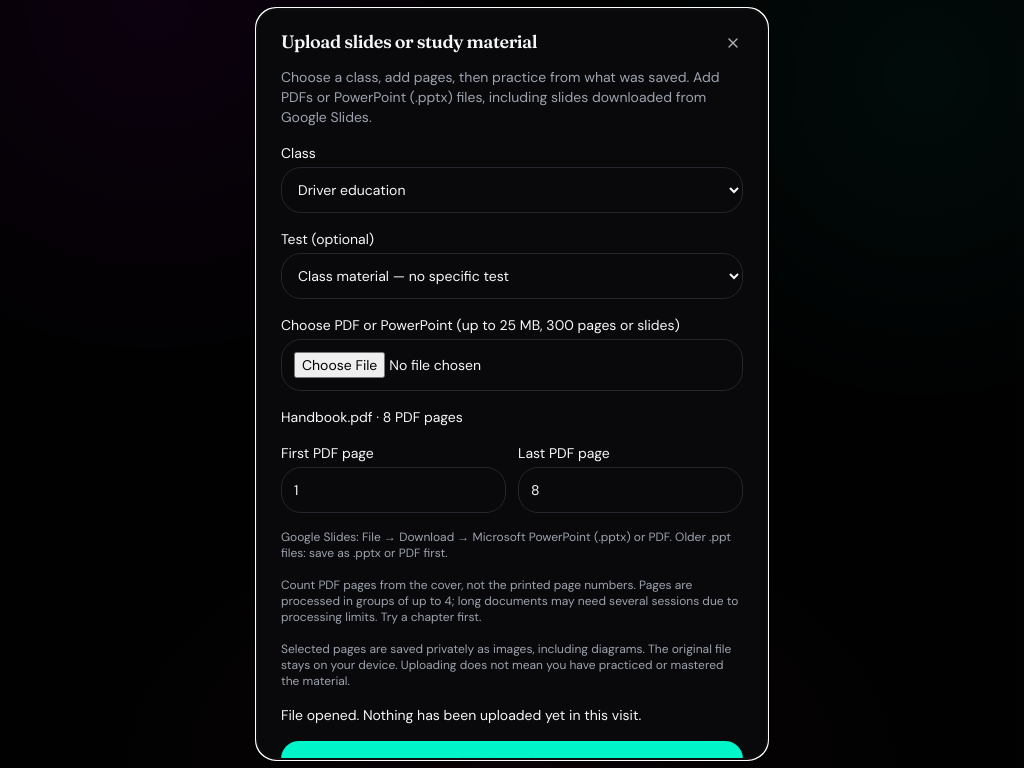
Test: PDF study import UI › locks the class/test after import starts and sends exam context to every batch
Earlier steps of the test are not shown.
Expected: the text "Handbook.pdf · 8 PDF pages" is shown, [281,408,463,426]
Select "Permit retest" in the dropdown labelled "Test (optional)" at (512, 276), box [281,253,743,299]
(page scrolled)
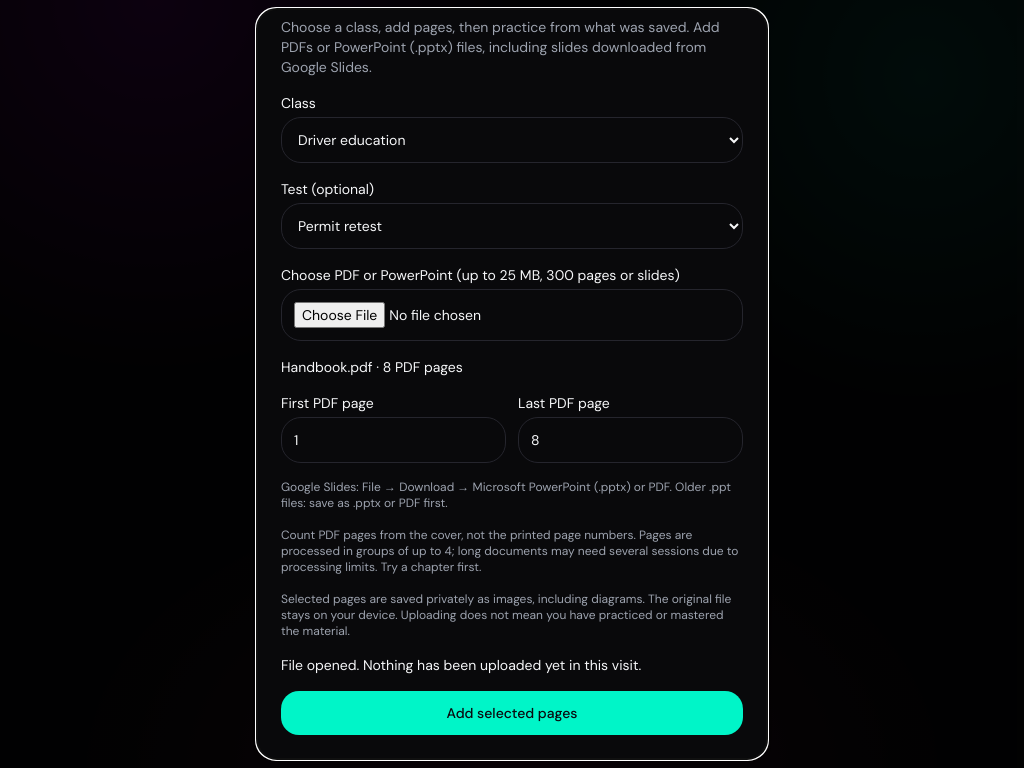
Click the button "Add selected pages" at (512, 713), box [281,691,743,735]
(page scrolled)
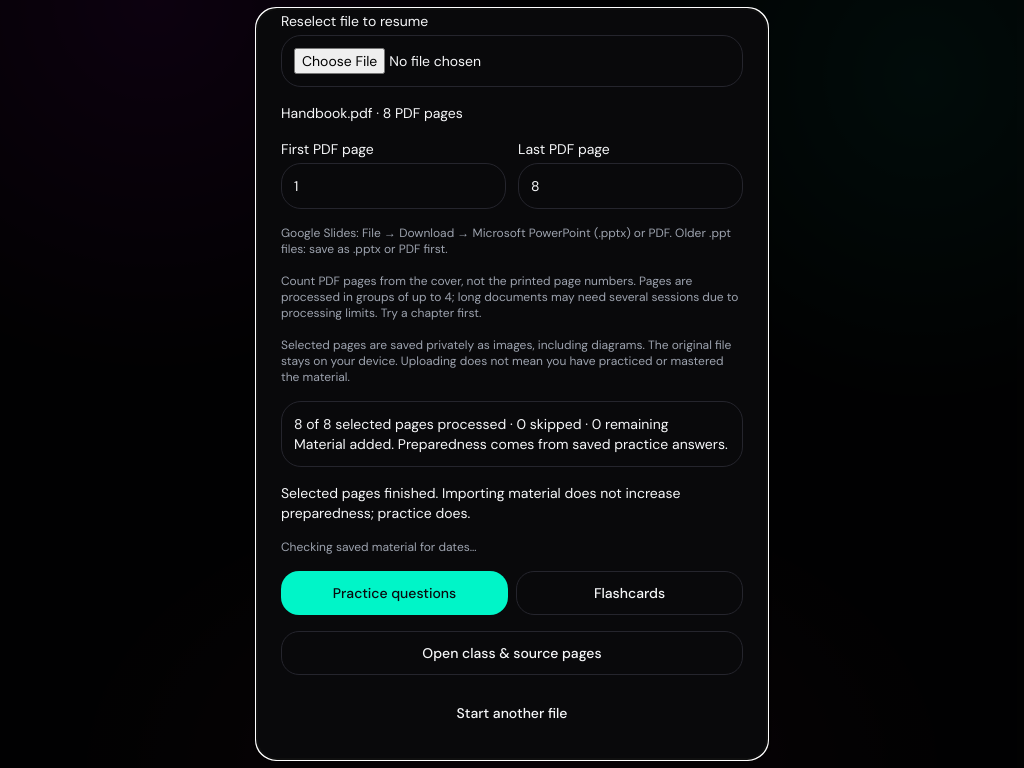
Result: the text "8 of 8 selected pages processed · 0 skipped · 0 remaining" is shown at [294,414,730,434]
Click the button "Flashcards" at (630, 593), box [516,571,743,615]
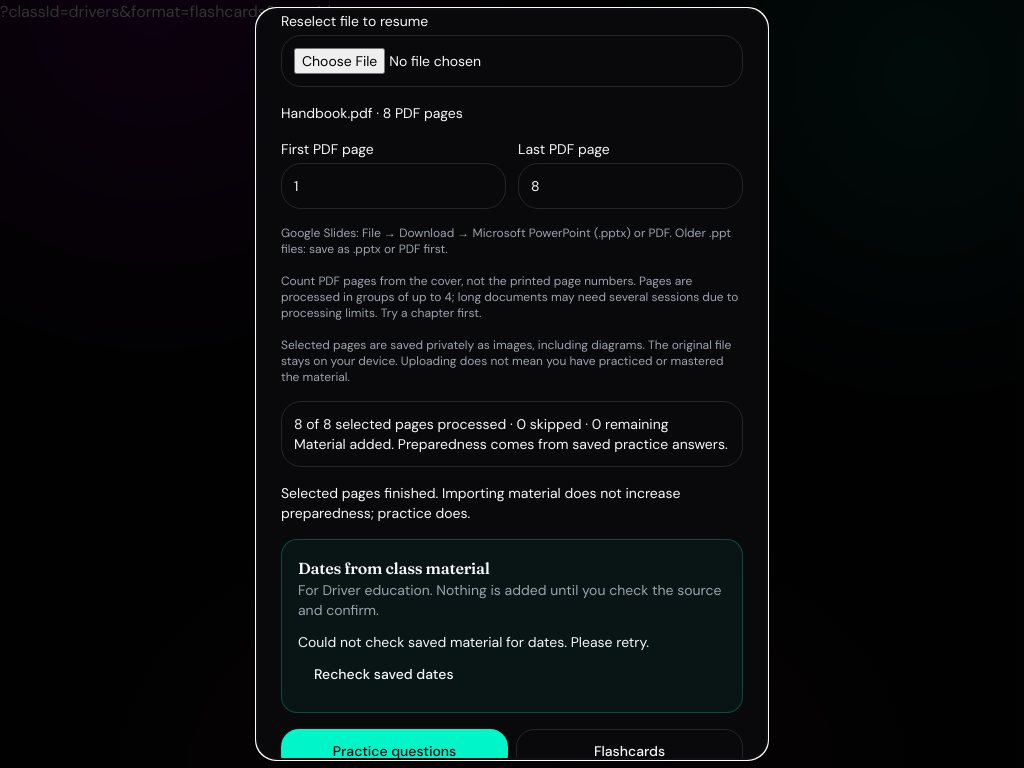
Result: the text with test id "location" shows "examId=exam" at [0,1,379,22]
